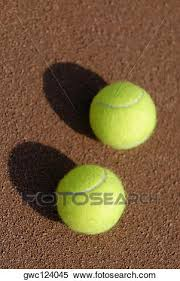tennis_ball: (53, 163, 126, 236), (88, 80, 157, 152)
